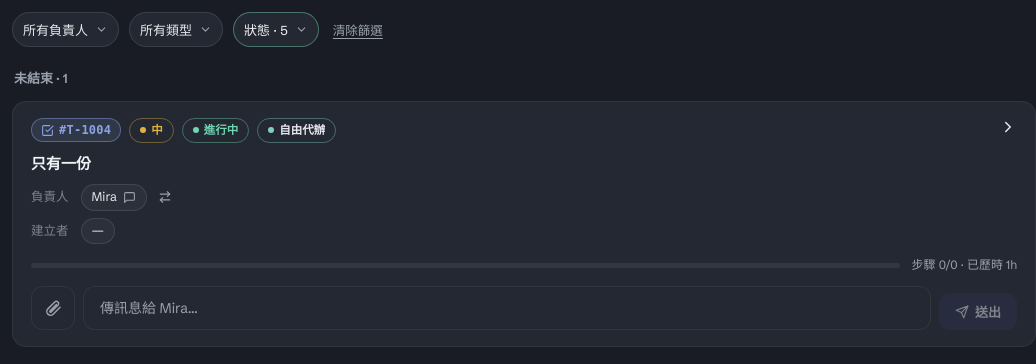
Test: spec ② 狀態 badge → 下拉選單 › MOVED, not copied: the card carries exactly ONE 標記重複 / 終止, on the status menu
Click the button with test id "task-status".
click(216, 130)  # box 182,118 -> 249,143
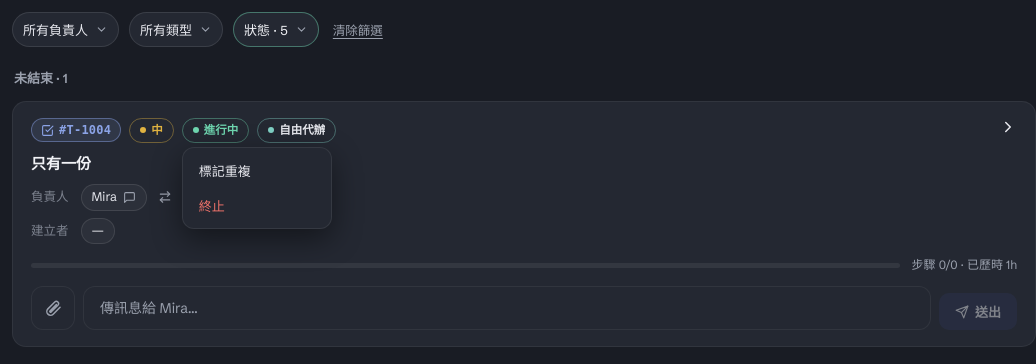
Now the number of menu items with test id "task-mark-duplicate" is 1, box 189,154 -> 325,187
Now the number of menu items with test id "task-terminate" is 1, box 189,189 -> 325,222
Now the menu with test id "task-mark-duplicate" is shown, box 182,147 -> 332,229
